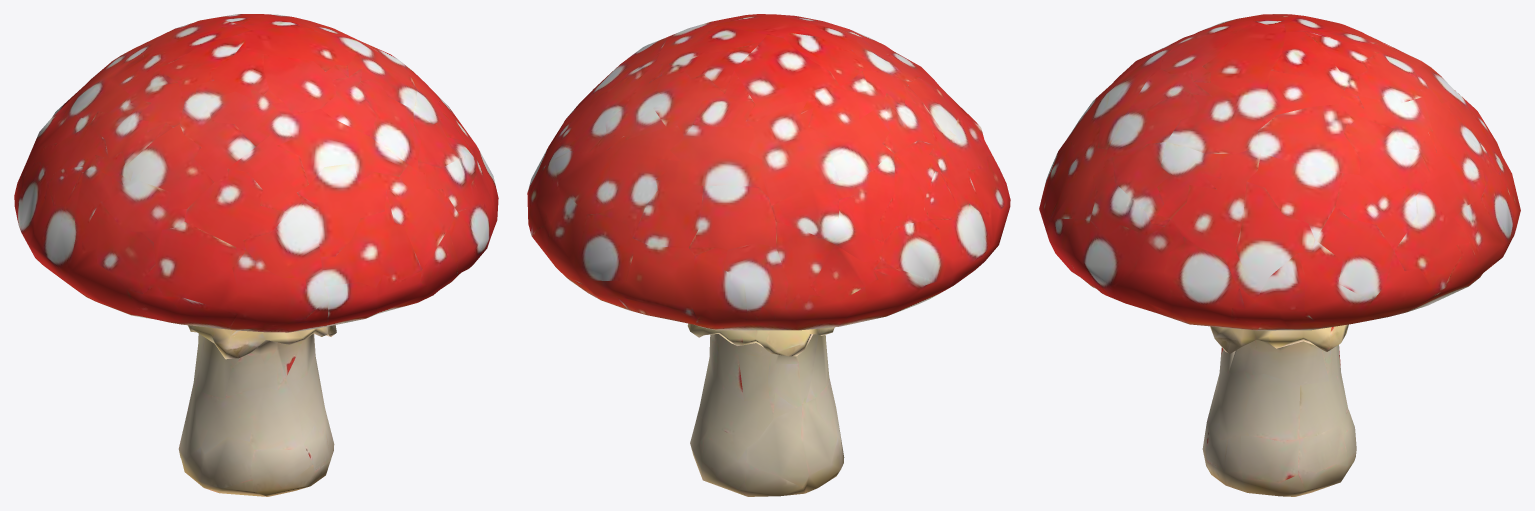
Rendered from mushroom3.glb.
3 views of the same model, side by side, from view 1: azimuth 30°, elevation 25°; view 2: azimuth 150°, elevation 25°; view 3: azimuth 270°, elevation 25° (orthographic).
Size of the model in its own units: 2 by 2 by 1.99.
Materials: 1 (1 with a texture image).
